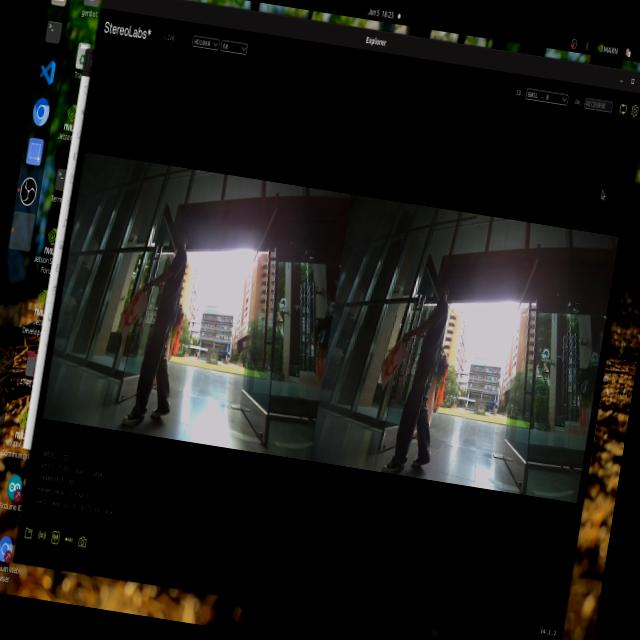red: (110, 285, 152, 334), (373, 332, 405, 380)
